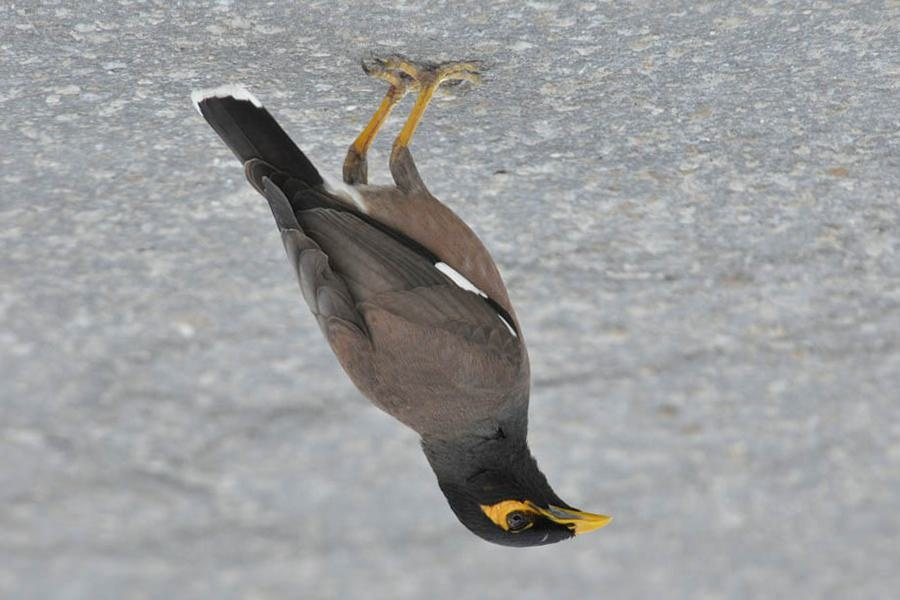myna: (161, 41, 630, 578)
